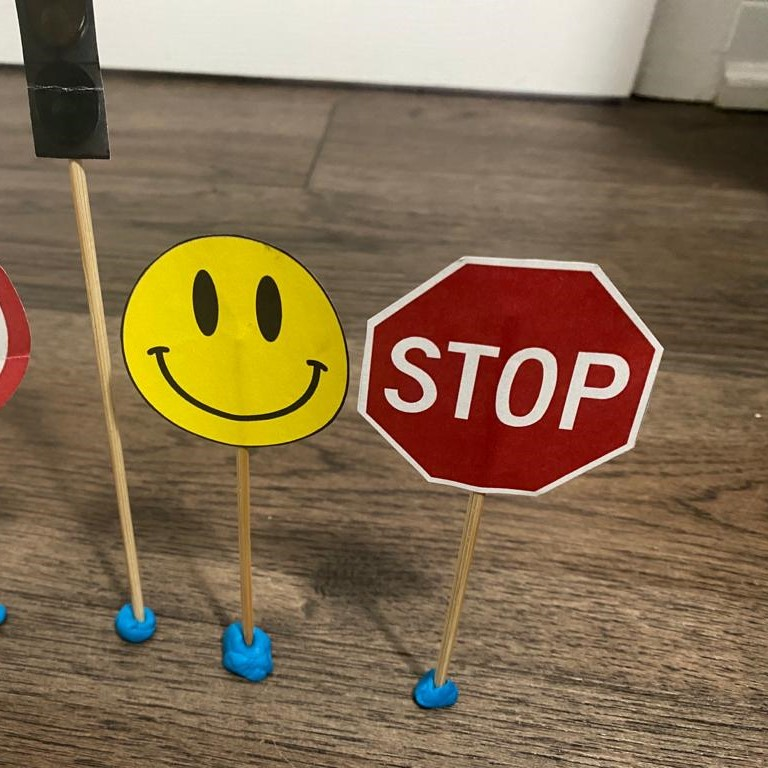Person: (118, 230, 349, 449)
Stop Sign: (358, 253, 666, 499)
